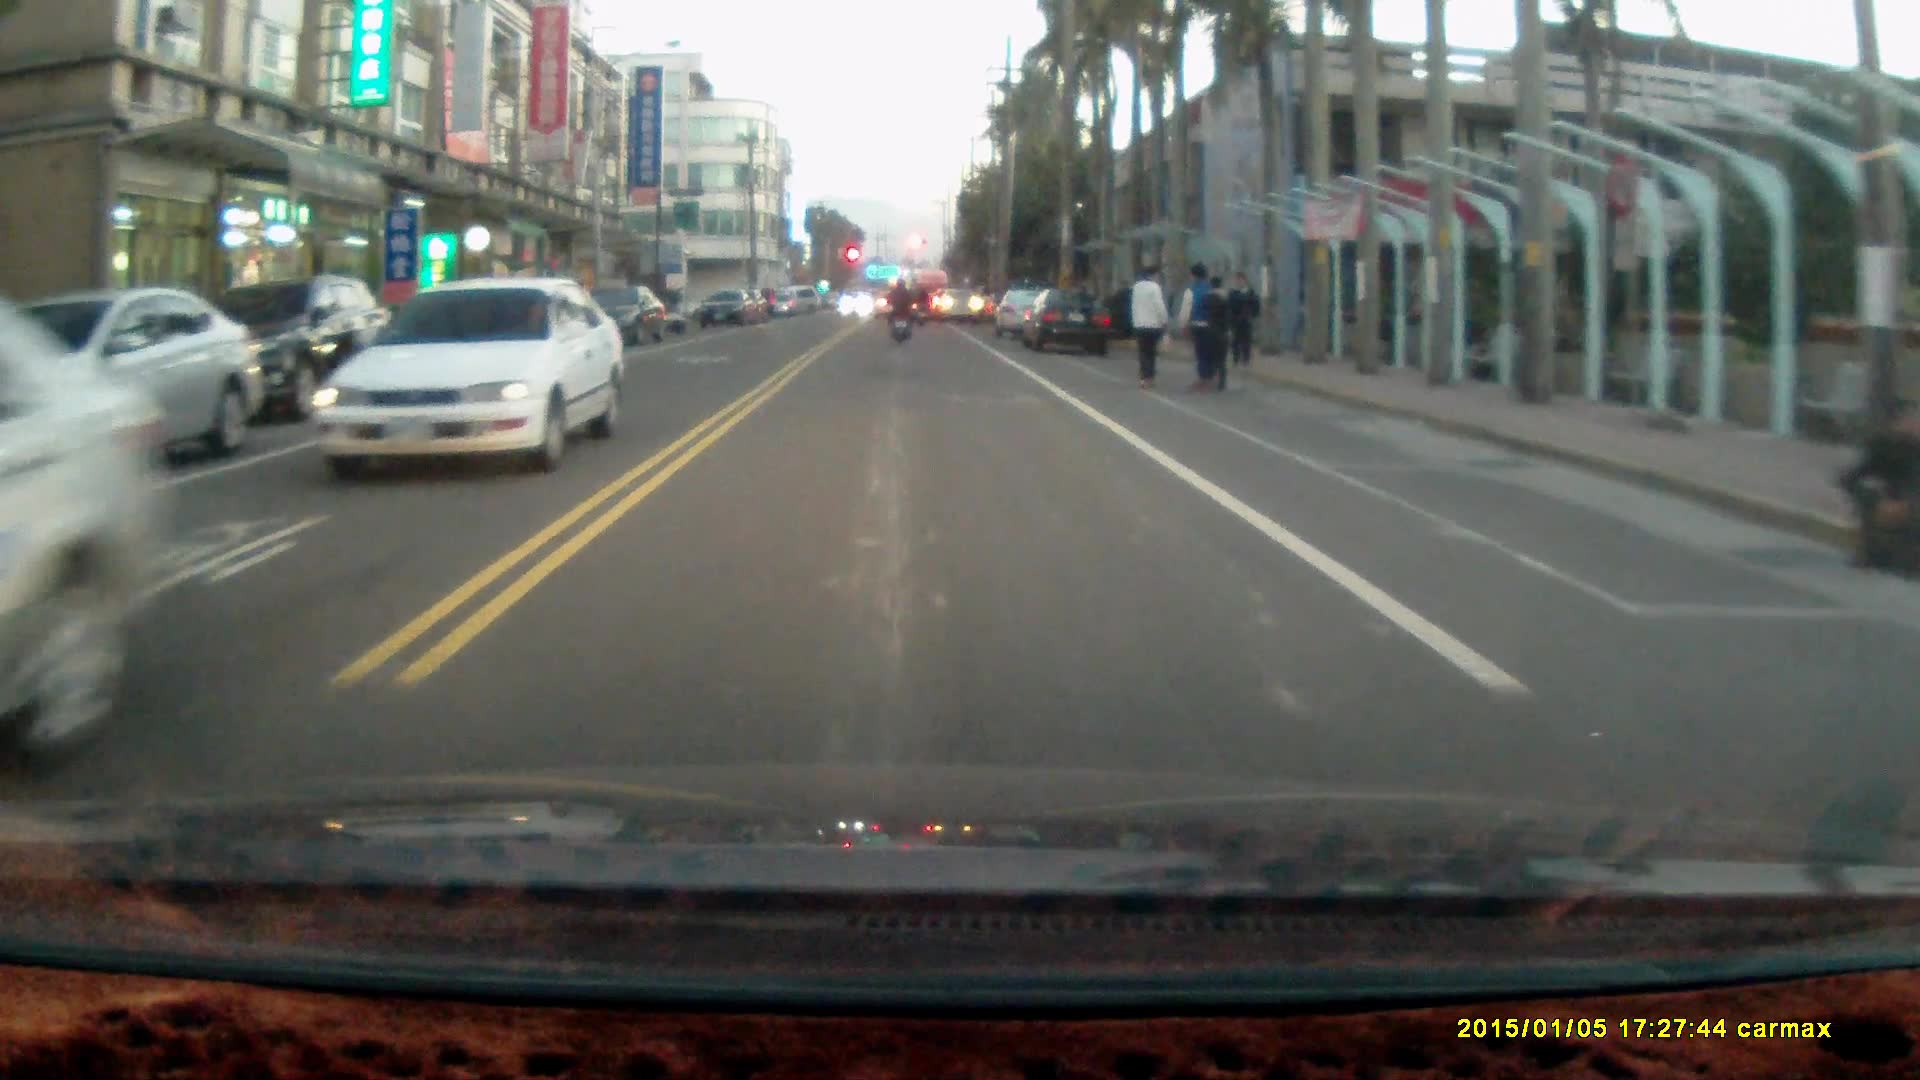pedestrian: (1831, 398, 1920, 583), (1174, 260, 1219, 393), (1127, 260, 1170, 394), (1196, 279, 1236, 400), (1226, 268, 1259, 369)
rider: (884, 275, 915, 347)
vehicle: (1, 339, 161, 785), (307, 279, 625, 469), (146, 278, 390, 422), (567, 283, 669, 346), (1025, 289, 1115, 356), (699, 289, 762, 333)
